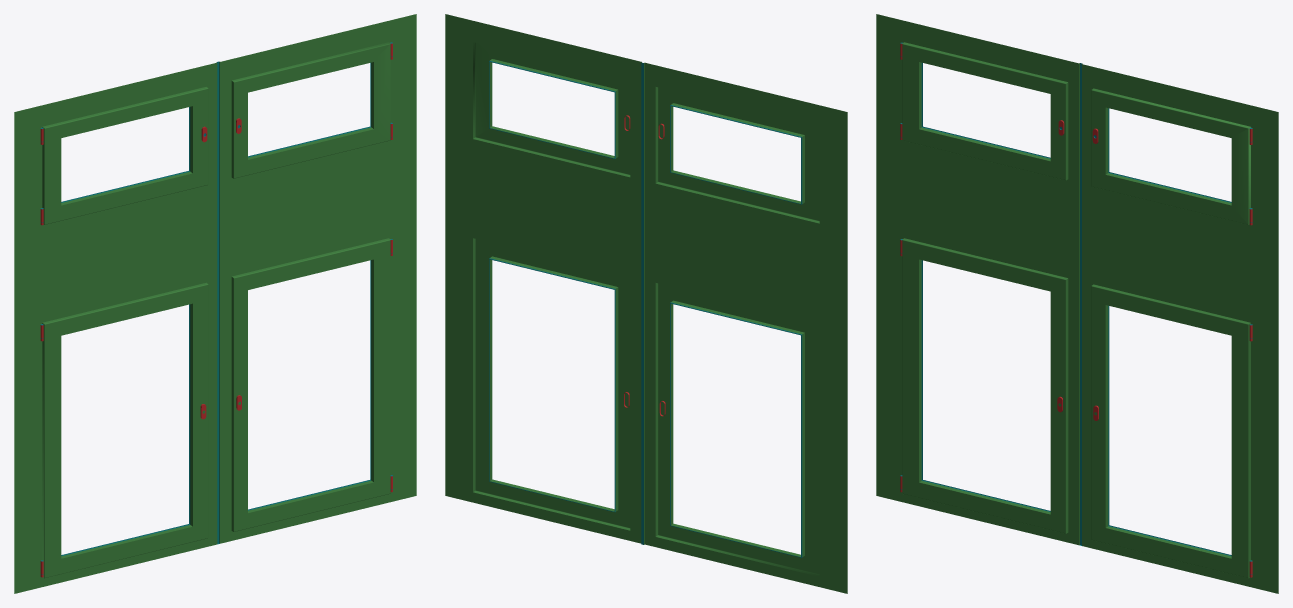
The model's file is SM_Window_06.fbx.
The picture shows the model from 3 angles, left to right: view 1: azimuth 30°, elevation 25°; view 2: azimuth 150°, elevation 25°; view 3: azimuth 330°, elevation 25°; orthographic projection.
Visible parts, largest first — view 1: SM_Window_06; view 2: SM_Window_06; view 3: SM_Window_06.
Boxes of the visible parts, x1,y1,x2,y2 form: SM_Window_06: [14, 14, 416, 593]; SM_Window_06: [445, 14, 847, 593]; SM_Window_06: [876, 14, 1278, 593].
Size of the model in its own units: 220 by 252 by 3.85.
